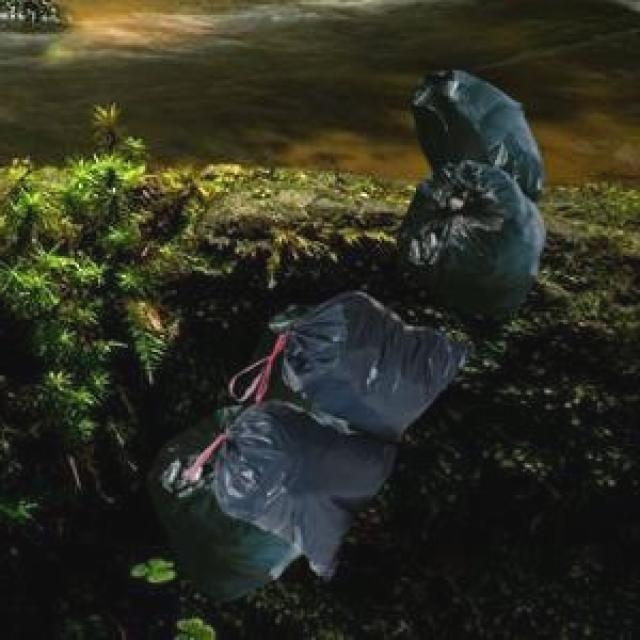Trashbag: (211, 414, 378, 580), (280, 290, 473, 432), (394, 168, 549, 318), (407, 59, 555, 188)
